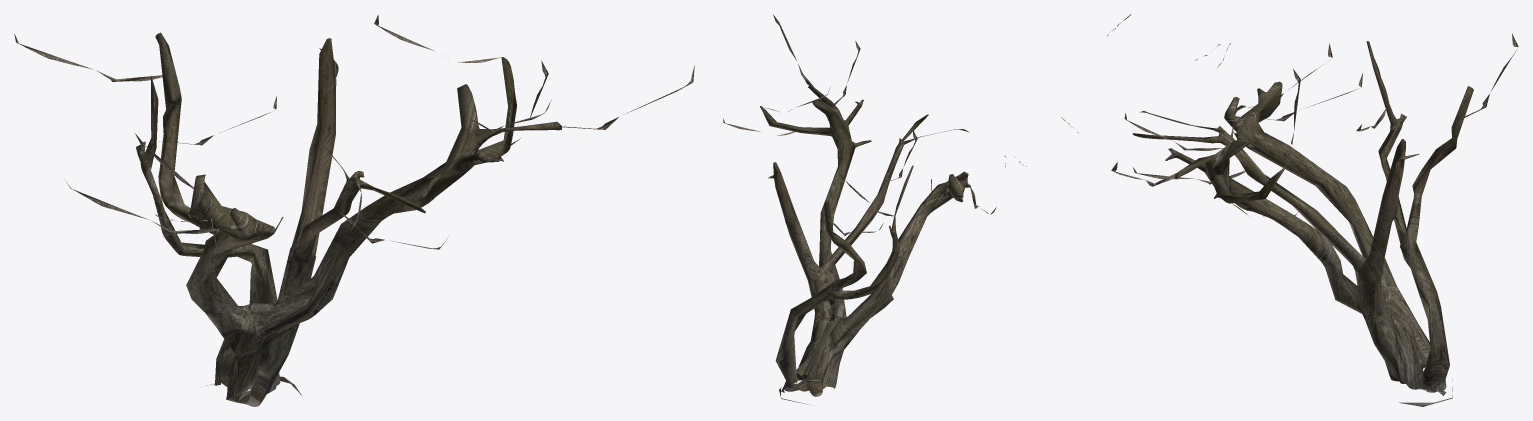
File: island_tree_02_L0_madera.glb
3 views of the same model, side by side, from view 1: azimuth 30°, elevation 25°; view 2: azimuth 150°, elevation 25°; view 3: azimuth 270°, elevation 25° (orthographic). The views are drawn at different scales.
Visible parts, largest first — view 1: island_tree_02_LOD0; view 2: island_tree_02_LOD0; view 3: island_tree_02_LOD0.
Part boxes in pixels (x1,y1,x2,y2): island_tree_02_LOD0: [14, 15, 694, 406]; island_tree_02_LOD0: [723, 14, 1078, 405]; island_tree_02_LOD0: [1107, 14, 1518, 406].
Size of the model in its own units: 3.6 by 2.98 by 3.28.
2 materials, 2 textured.
